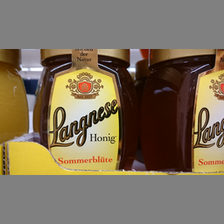honey: (35, 49, 137, 173)
